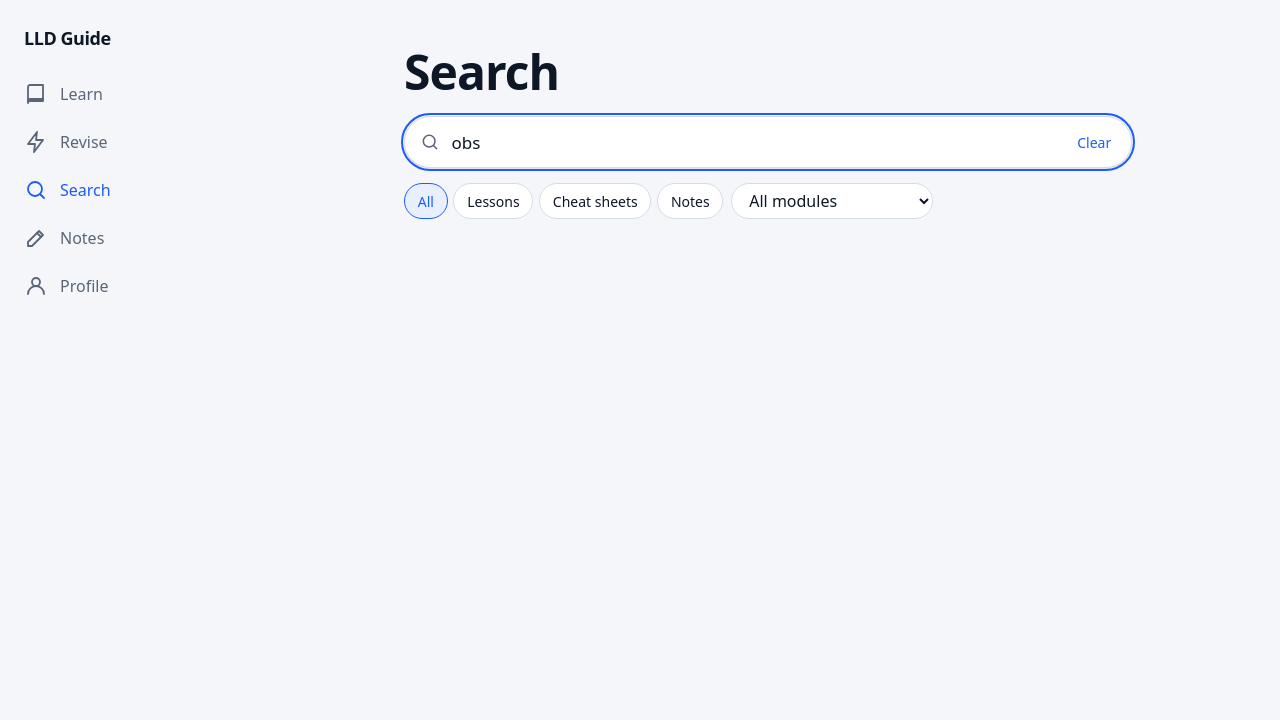
Scenario: The Search tab (spec 009 §3.4) › drops an older answer that arrives after a newer one
Replace the text in the search field with "decor": {"x": 768, "y": 142} [404,116,1132,168]
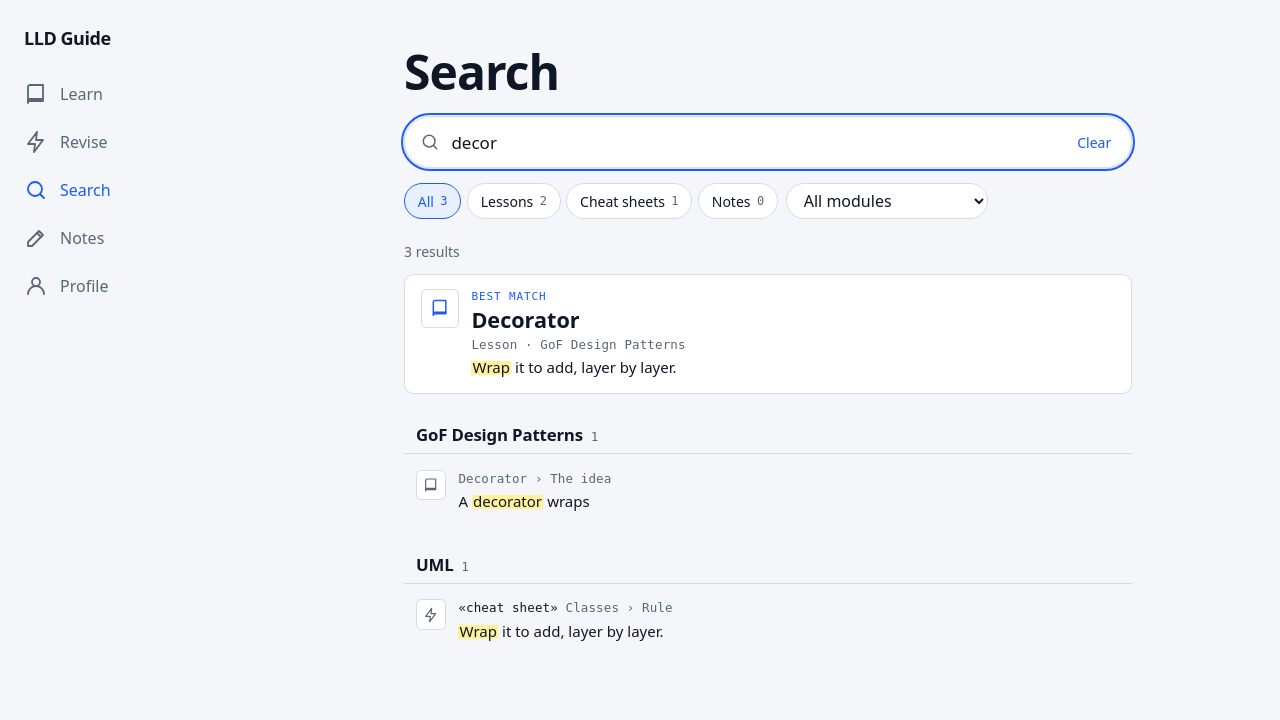
Result: the link "Best match" is shown at [404,274,1132,394]
